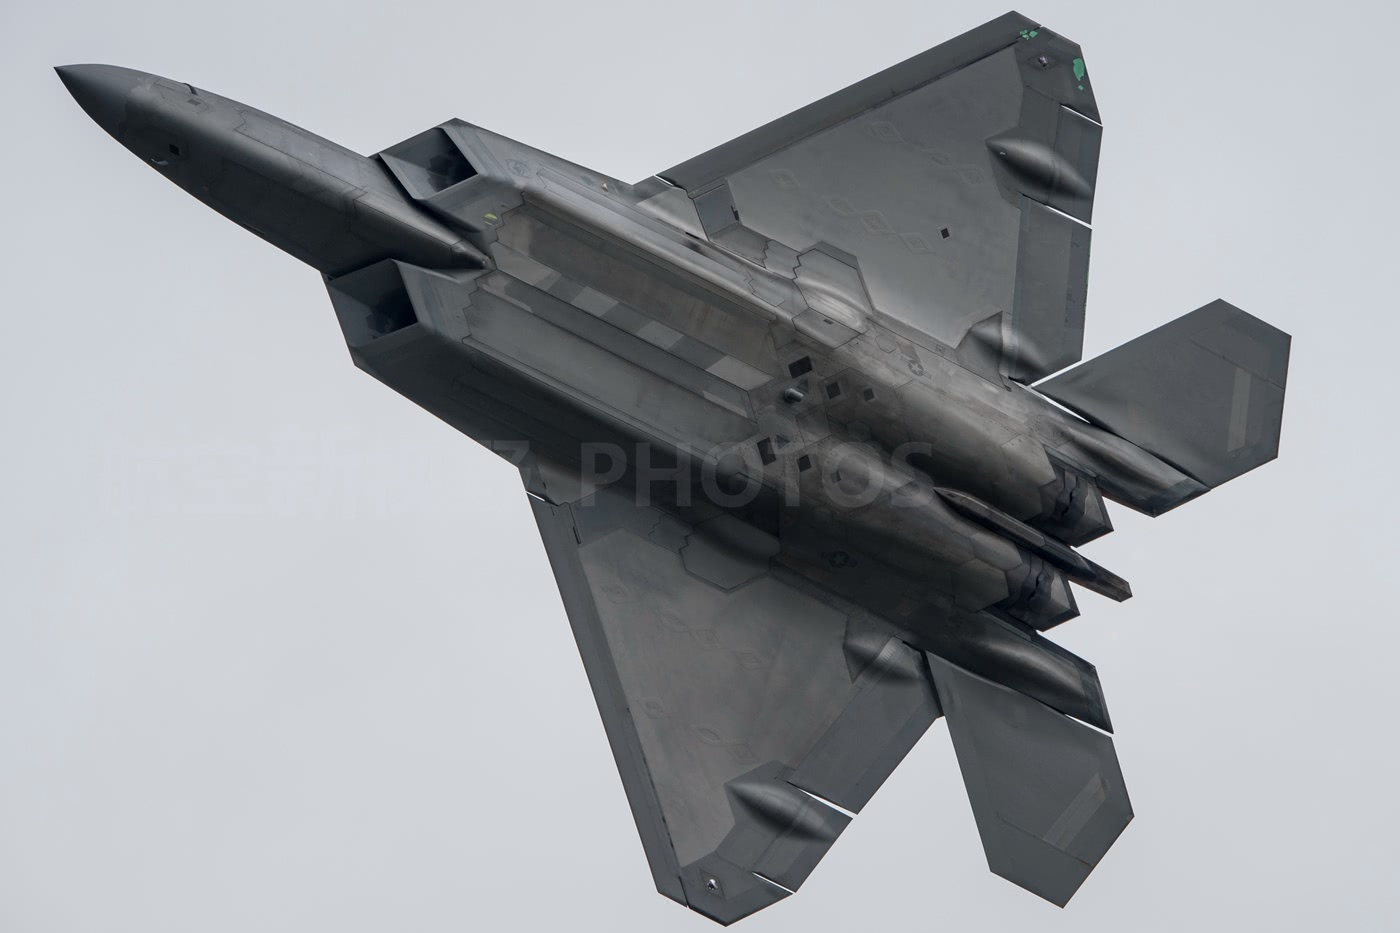airplane: (48, 12, 1295, 933)
